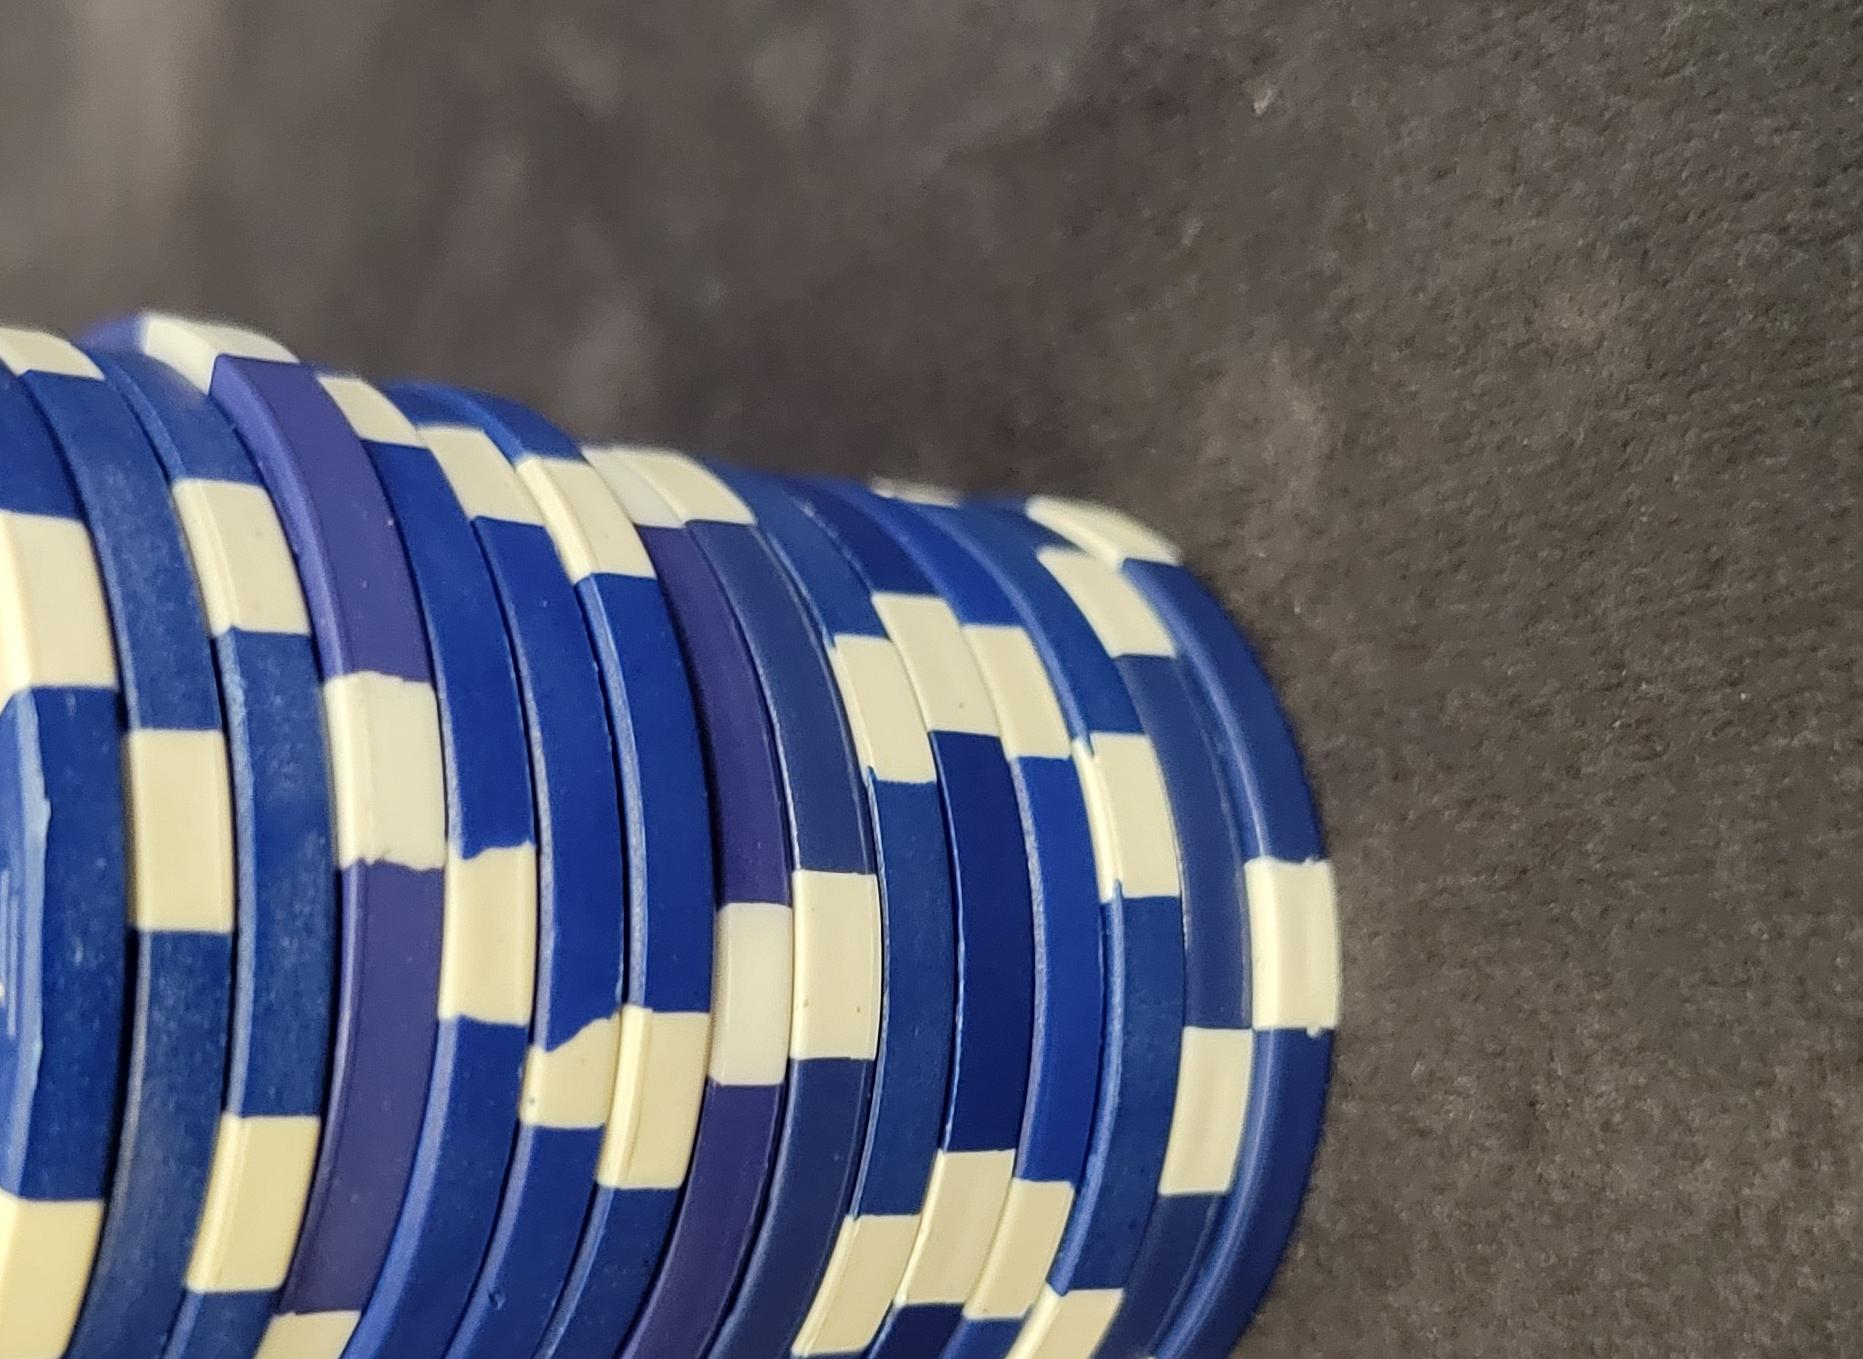Chip: (1, 181, 1109, 1359)
